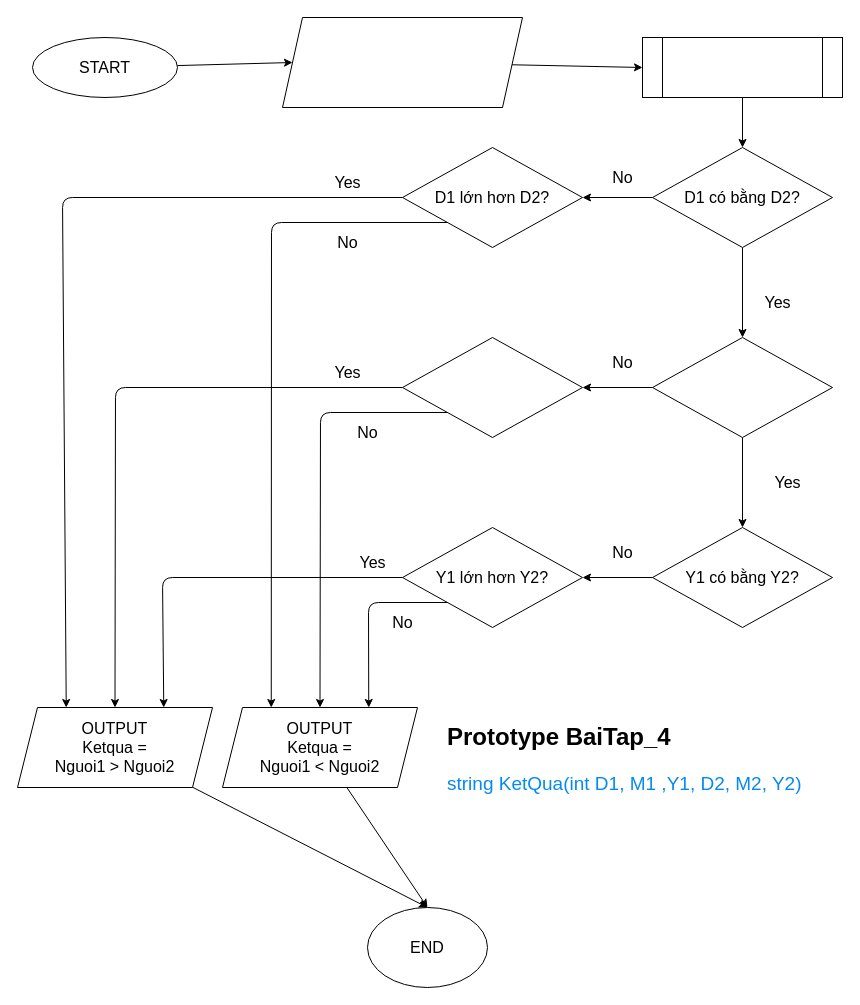
The diagram is 860 pixels wide and 1005 high, and some of its shapes have lost their labels. The shapes that lost their labels are listed below. From the top down, each one's centre as x and y in pixels, then its label:
(402,62): INPUT string KetQua int D1, M1, Y1 int D2 ,M2 ,Y2
(742,67): so sánh D1 và D2
(492,387): M1 lớn hơn M2?
(742,387): M1 có bằng M2?
